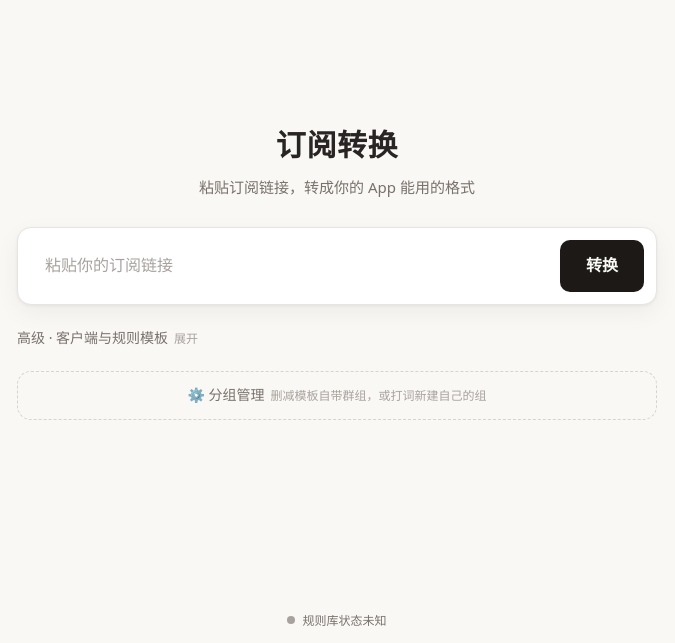
Test case: App 自定义分组接线（v1.5.0） › 能力位全真：未粘 URL 也能展开面板看模板组清单；粘贴后触发 probe → 打词输入出现
The width and height of the screenshot is (675, 643).
Click the button with class "groups-entry" at x=337, y=395, box [17,371,657,420]
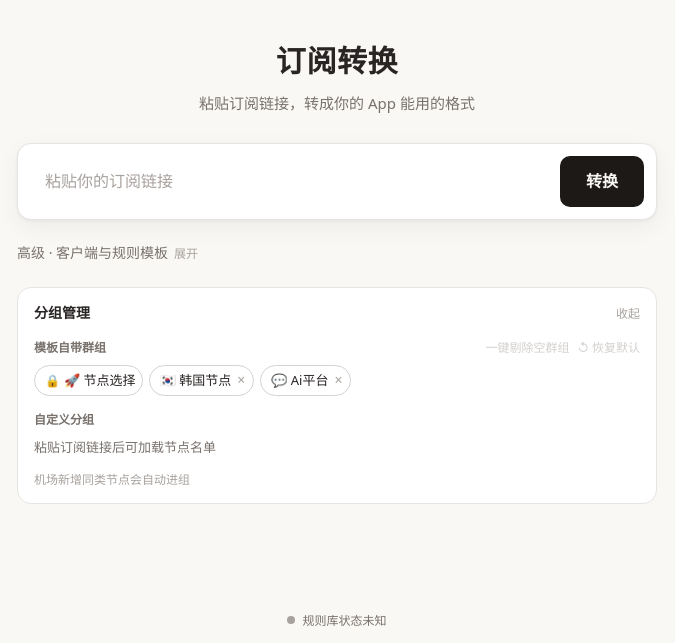
Check: the number of elements with class "tpl-chip" is 3, box [34,365,143,396]; [149,365,254,396]; [260,365,352,396]
Check: the text with class "groups-status" reads "粘贴订阅链接后可加载节点名单", box [34,438,216,456]
Type "https://example.com/sub" into the field named "订阅链接" at x=290, y=182, box [30,156,550,207]
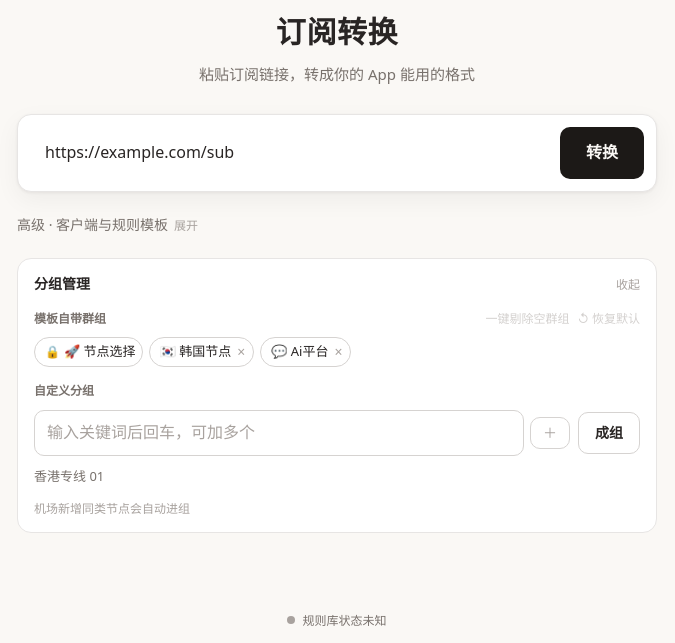
Check: the field named "分组关键词" is shown, box [34,410,524,456]
